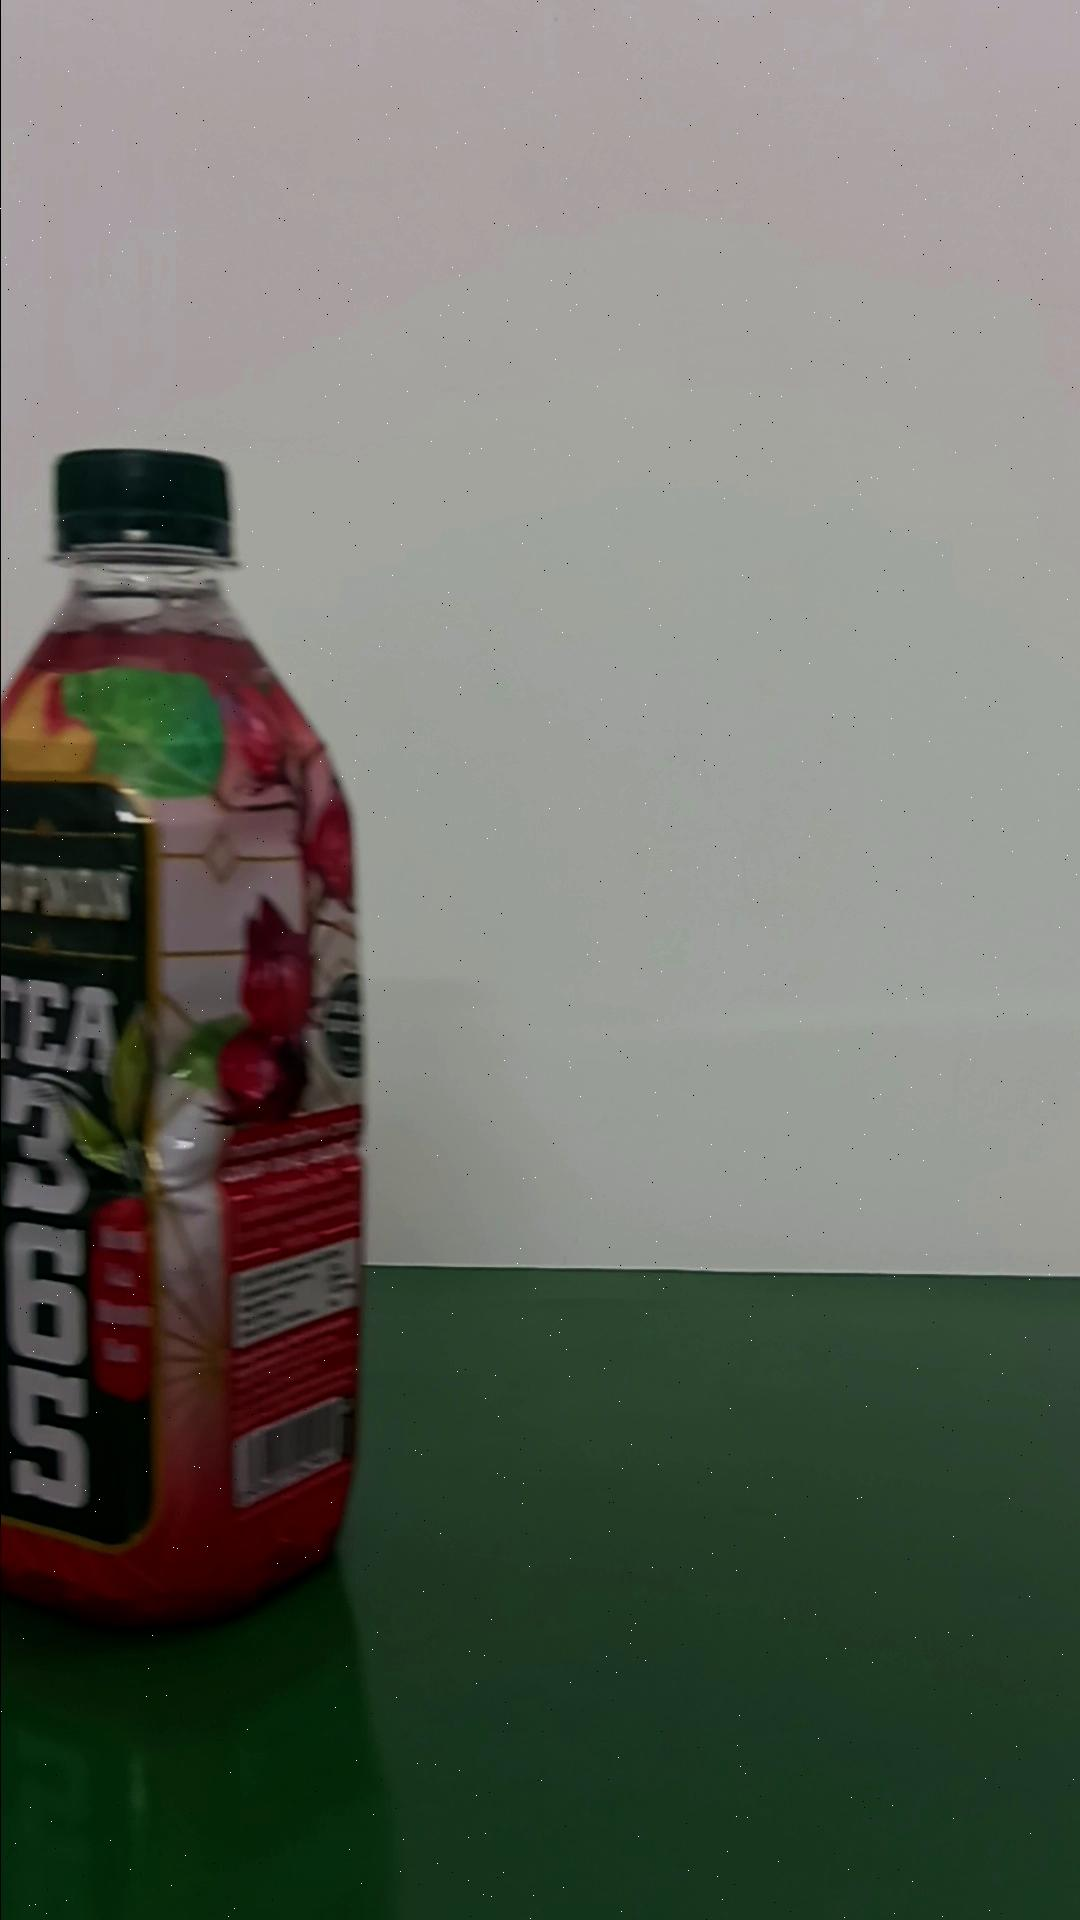loi meo sp: (3, 444, 367, 1629)
